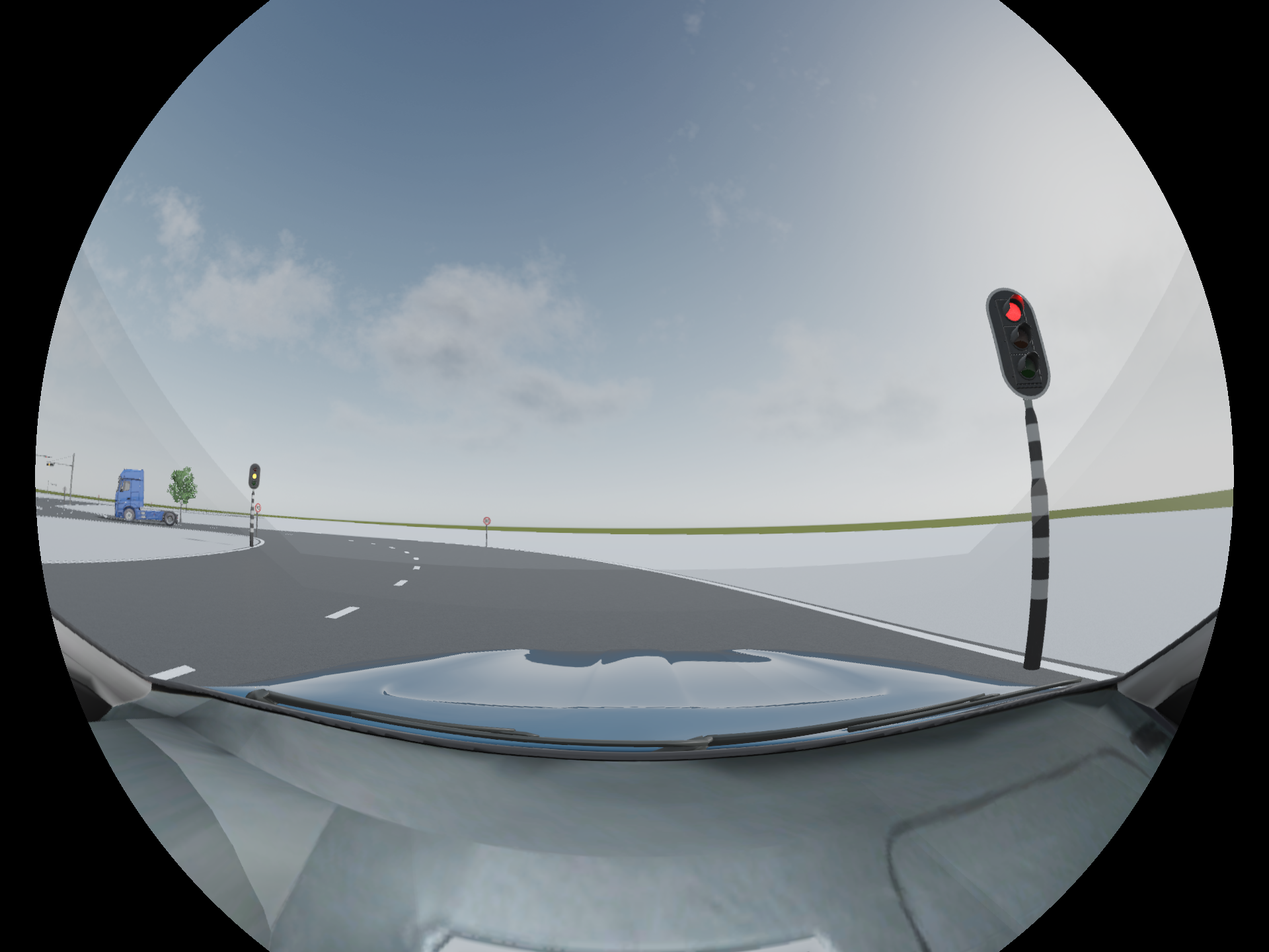Red Light: (988, 286, 1053, 399)
